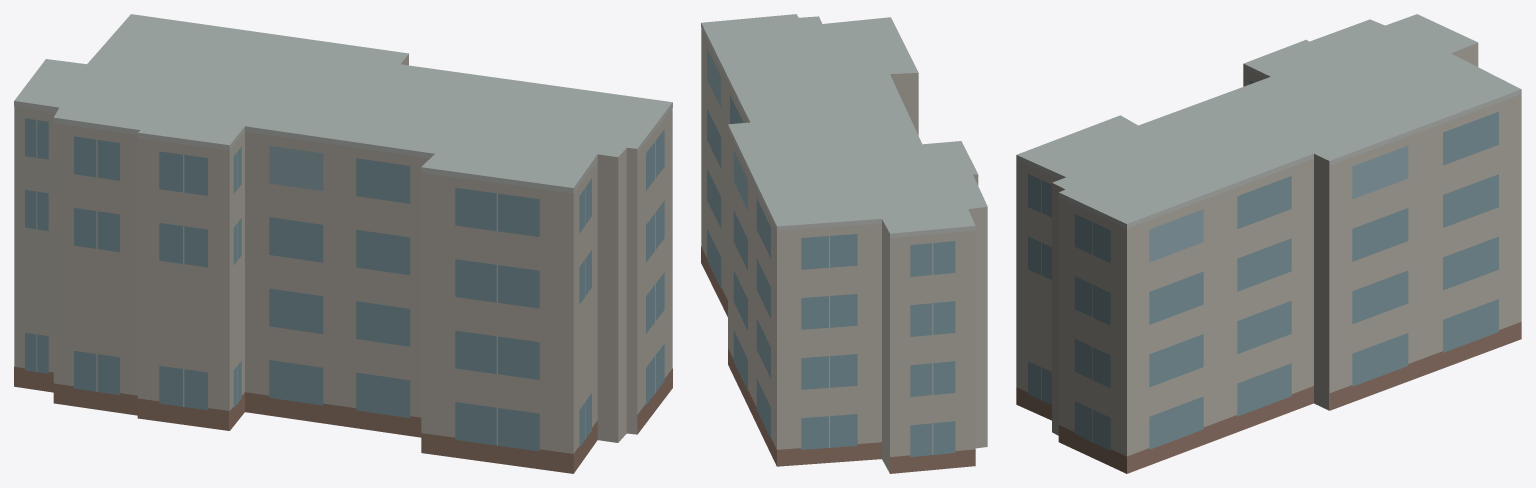
The model's file is survey-upis-32814093.glb.
The picture shows the model from 3 angles, left to right: view 1: azimuth 30°, elevation 25°; view 2: azimuth 150°, elevation 25°; view 3: azimuth 270°, elevation 25°; orthographic projection. The views are drawn at different scales.
Visible parts, largest first — view 1: survey-upis-32814093.tmp; view 2: survey-upis-32814093.tmp; view 3: survey-upis-32814093.tmp.
Boxes of the visible parts, x1,y1,x2,y2 form: survey-upis-32814093.tmp: (14, 14, 672, 473); survey-upis-32814093.tmp: (701, 14, 987, 473); survey-upis-32814093.tmp: (1016, 14, 1521, 473).
Bounding box in the file's own units: 23.28 × 12.9 × 23.66.
